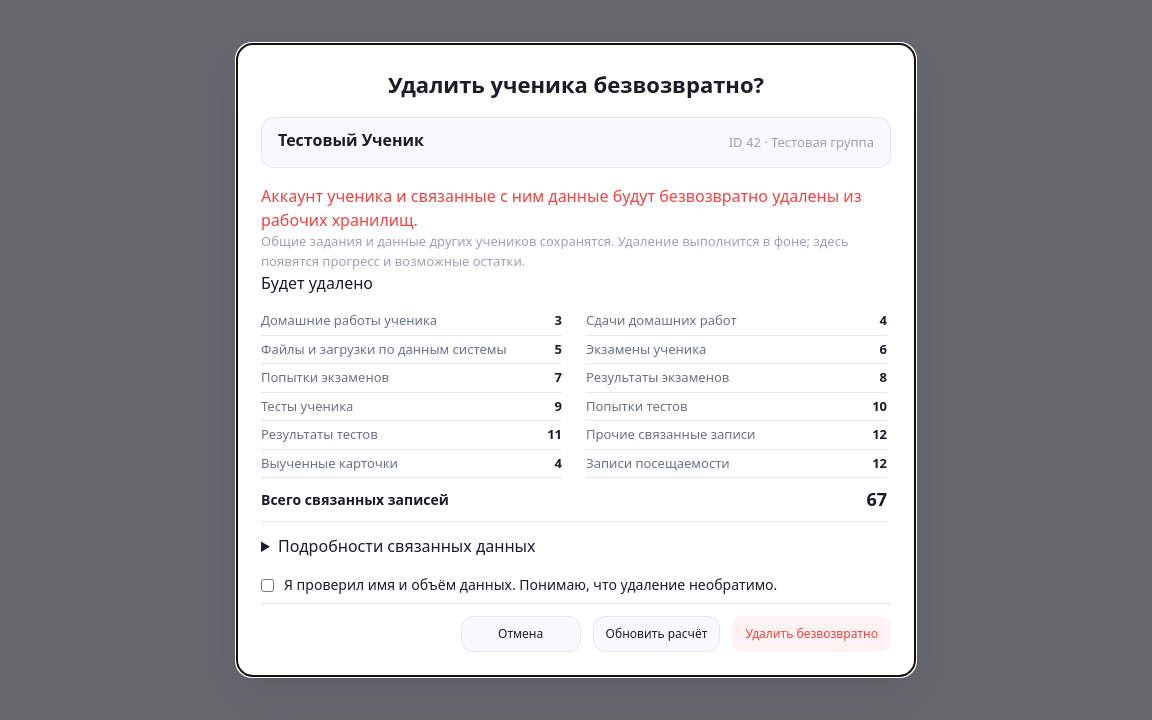
Test case: student deletion dialog › refreshes stale preview and requires a new confirmation
The image size is (1152, 720).
Expected: the heading "Будет удалено" is shown, [261,272,373,294]
Click the checkbox.
click(268, 586)  # box [261,579,274,592]
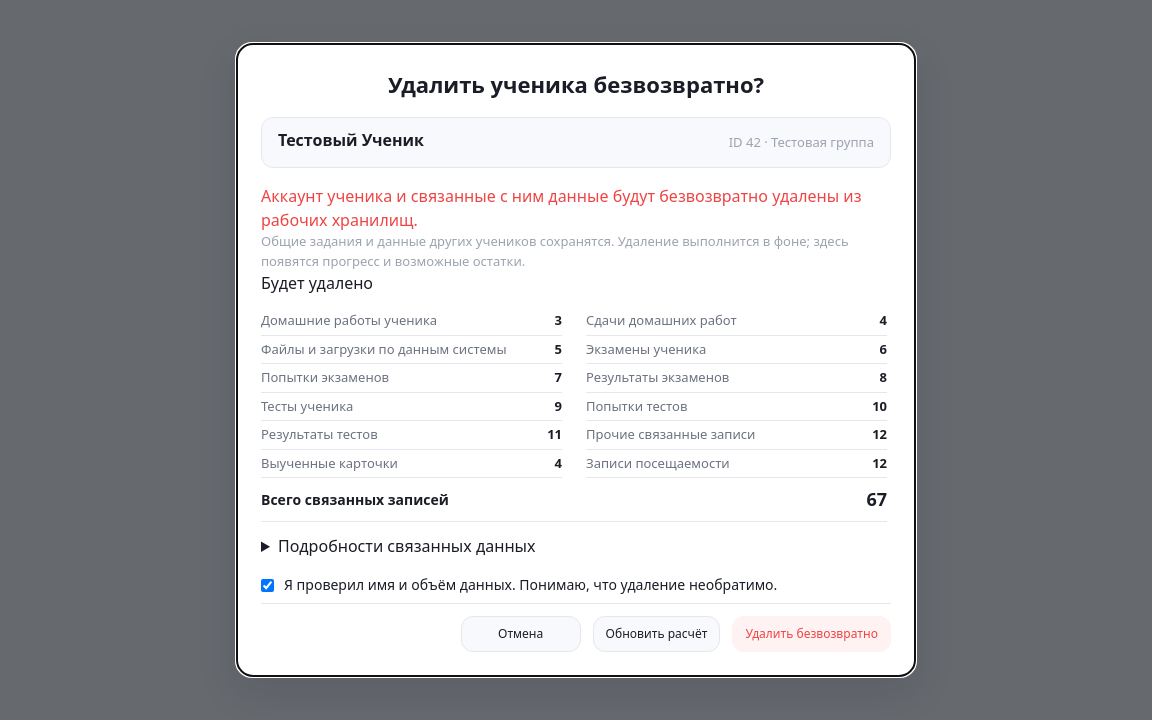
Click the button "Удалить безвозвратно".
click(812, 634)  # box [732,616,891,652]
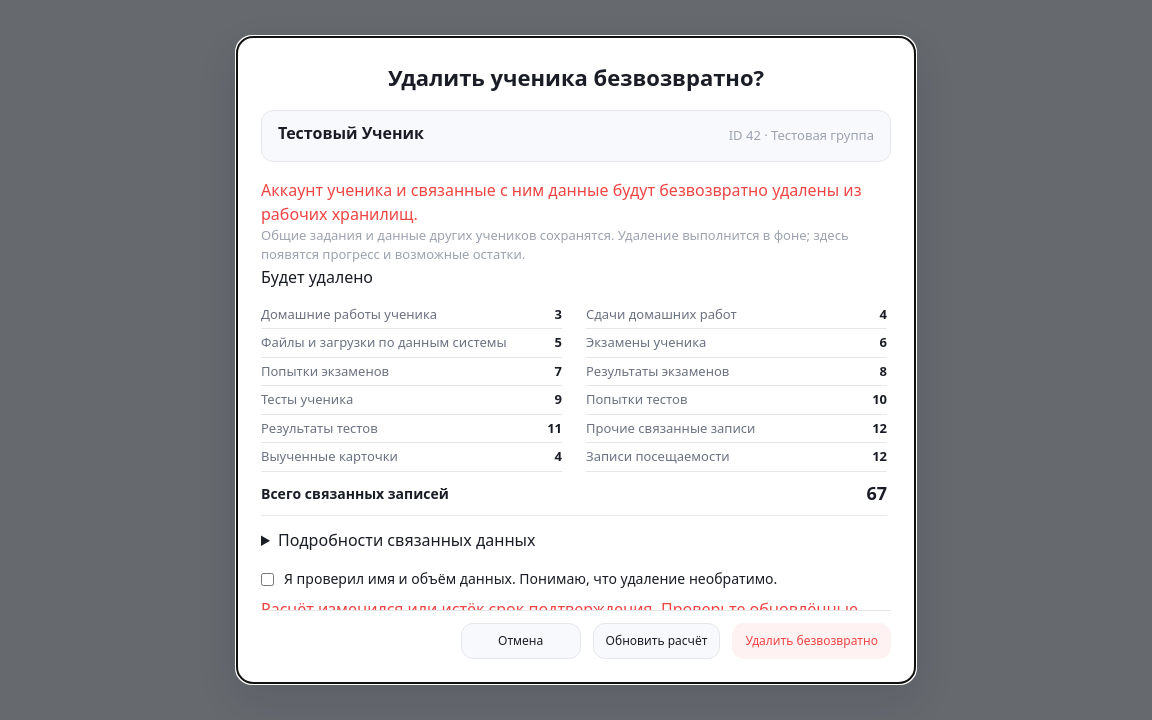
Expected: the checkbox is not checked, [261,573,274,586]
Expected: the button "Удалить безвозвратно" is disabled, [732,623,891,659]
